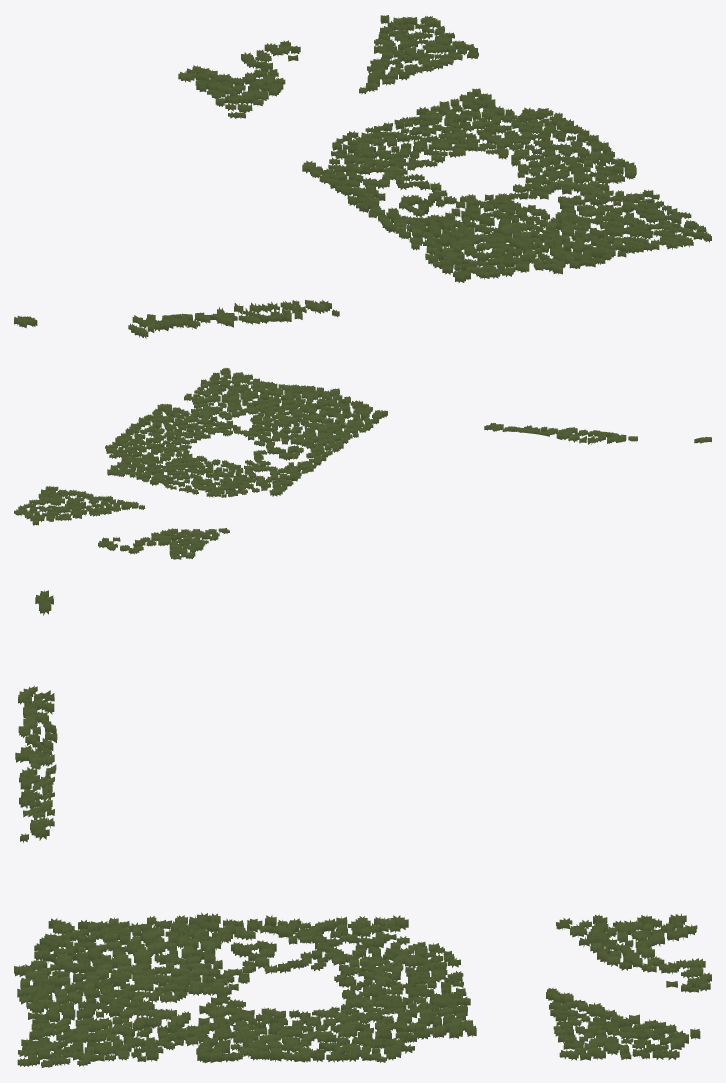
The model's file is TRB8-GRASS-CHUNK-4-5.glb.
3 renders of one model, top to bottom at view 1: azimuth 30°, elevation 25°; view 2: azimuth 150°, elevation 25°; view 3: azimuth 270°, elevation 25°, orthographic. The views are drawn at different scales.
Parts seen in each view (by area): view 1: TRB8-GRASS-CHUNK-4-5; view 2: TRB8-GRASS-CHUNK-4-5; view 3: TRB8-GRASS-CHUNK-4-5.
Part boxes in pixels (<box>): TRB8-GRASS-CHUNK-4-5: <box>14,15,711,338</box>; TRB8-GRASS-CHUNK-4-5: <box>14,367,711,559</box>; TRB8-GRASS-CHUNK-4-5: <box>14,590,711,1067</box>.
Size of the model in its own units: 40.42 by 4.6 by 30.68.
Materials: 1 (1 with a texture image).
